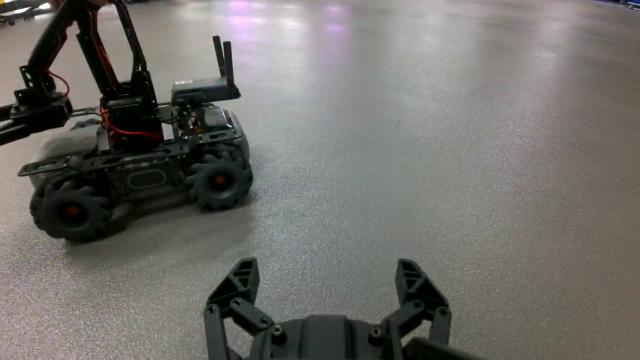robot: (0, 0, 255, 243)
